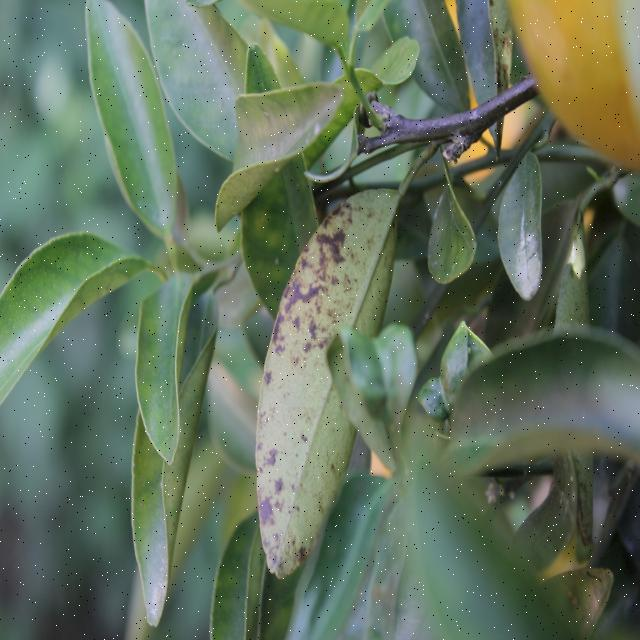blackspot: (244, 196, 391, 575)
